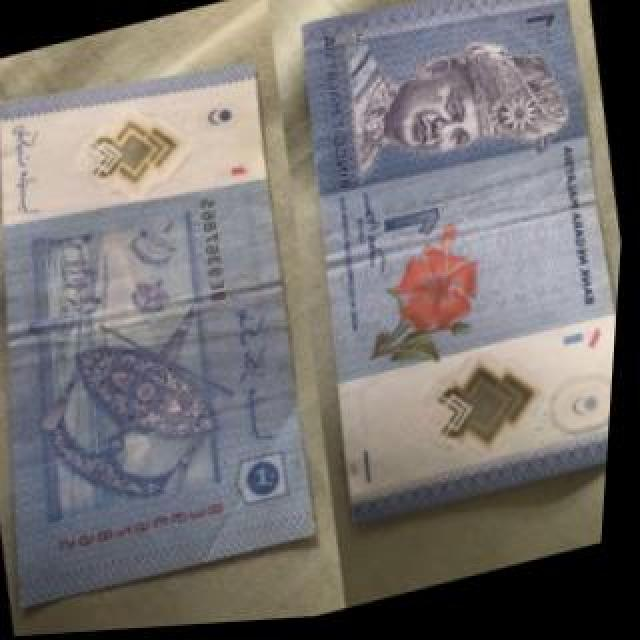1 Ringgit: (252, 0, 639, 545), (0, 28, 356, 617)
